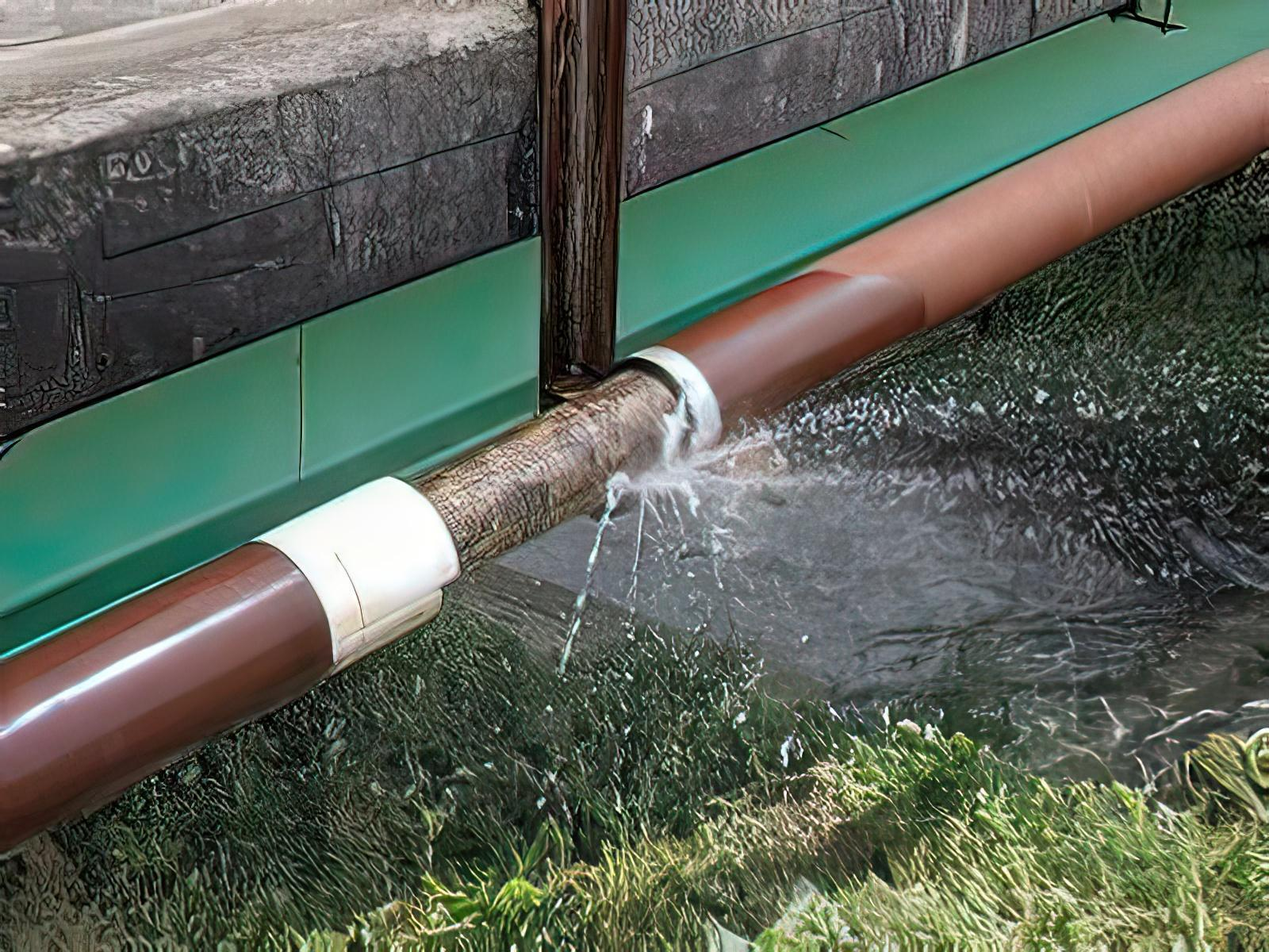pipe burst: (592, 369, 1238, 559)
